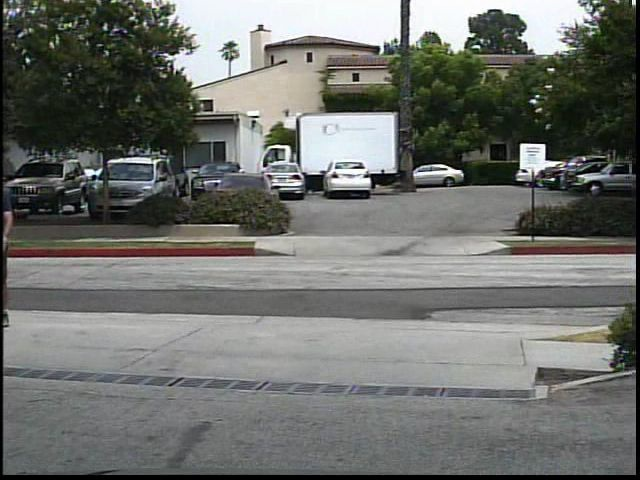person: (0, 161, 28, 333)
